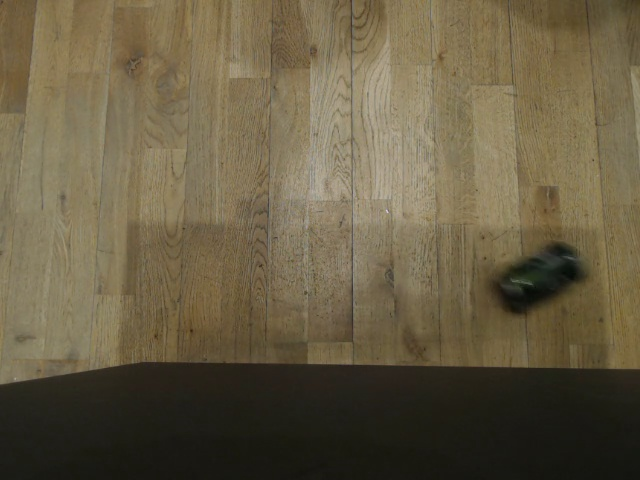beer: (488, 237, 588, 315)
